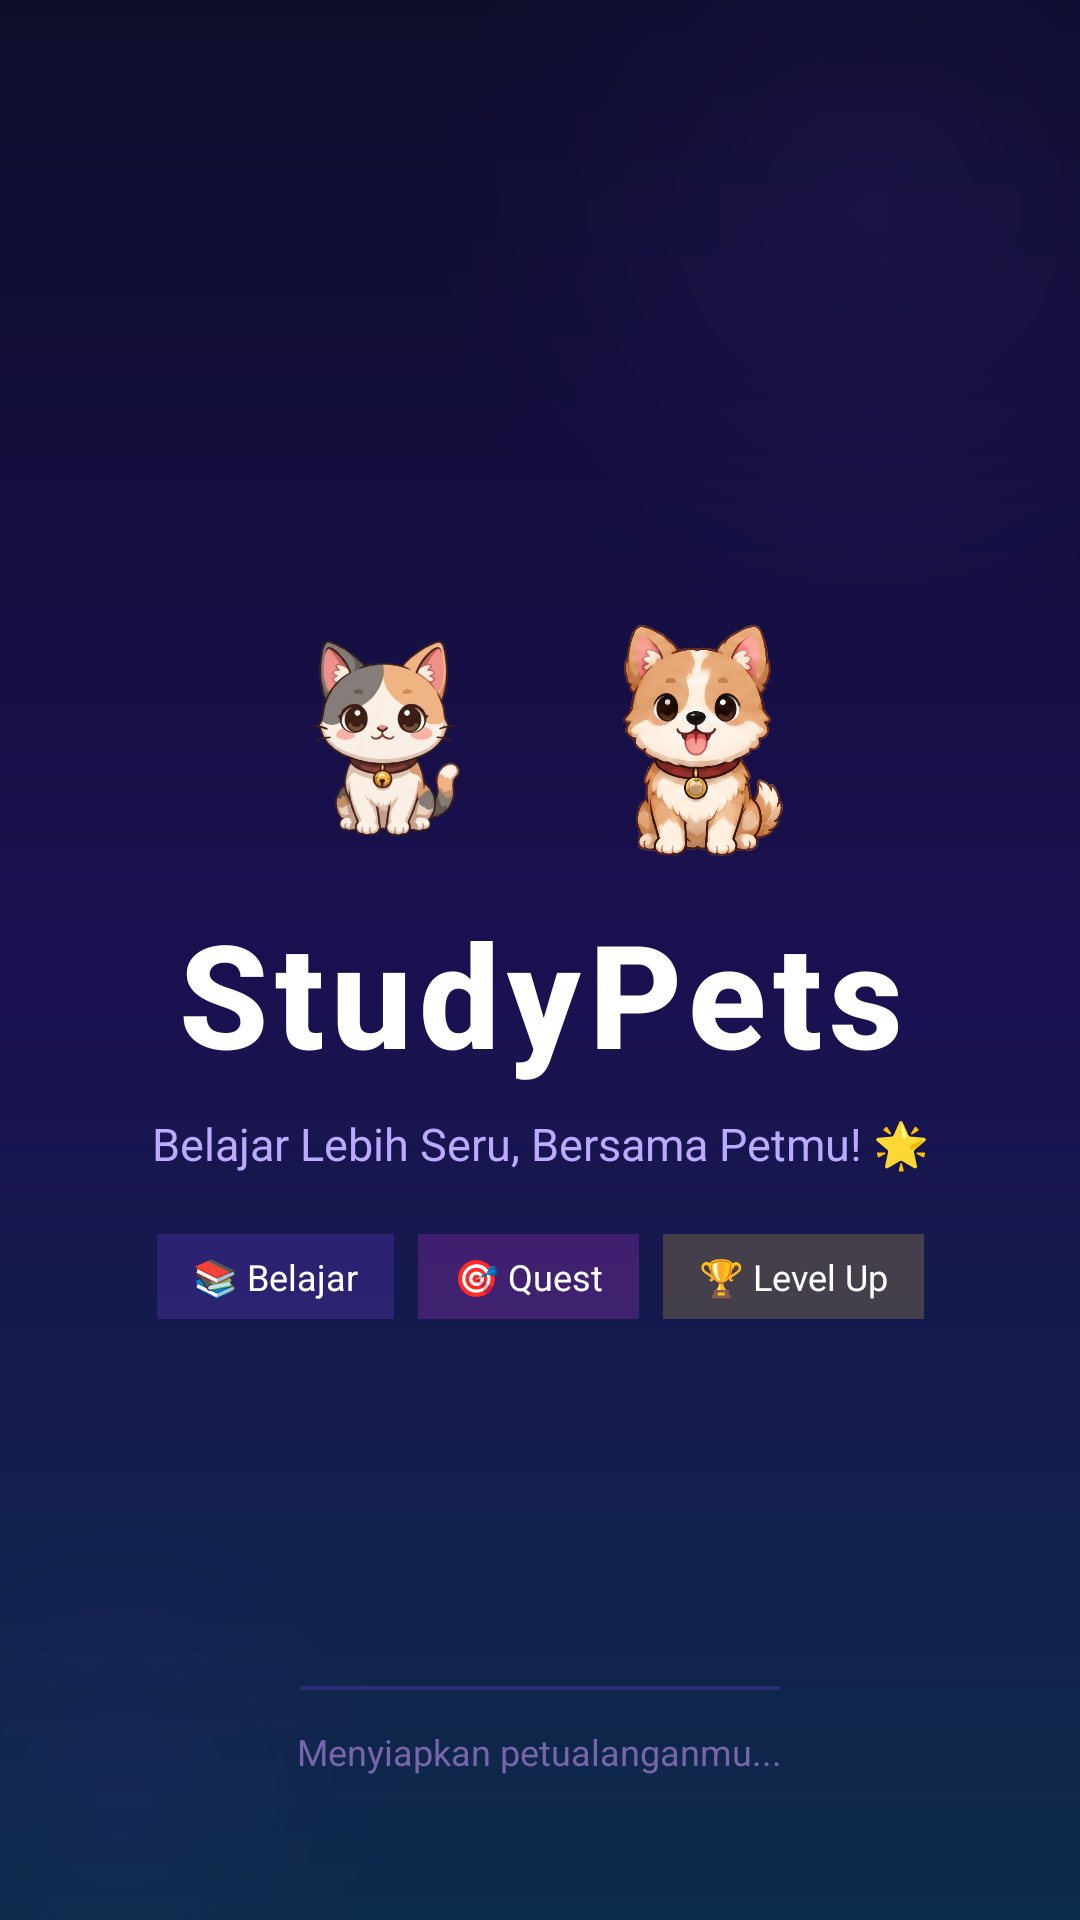

Icon click points for this 1080w x 1920h phone screenshot, format [x,y]:
Cat: [385,738]
Dog: [703,740]
